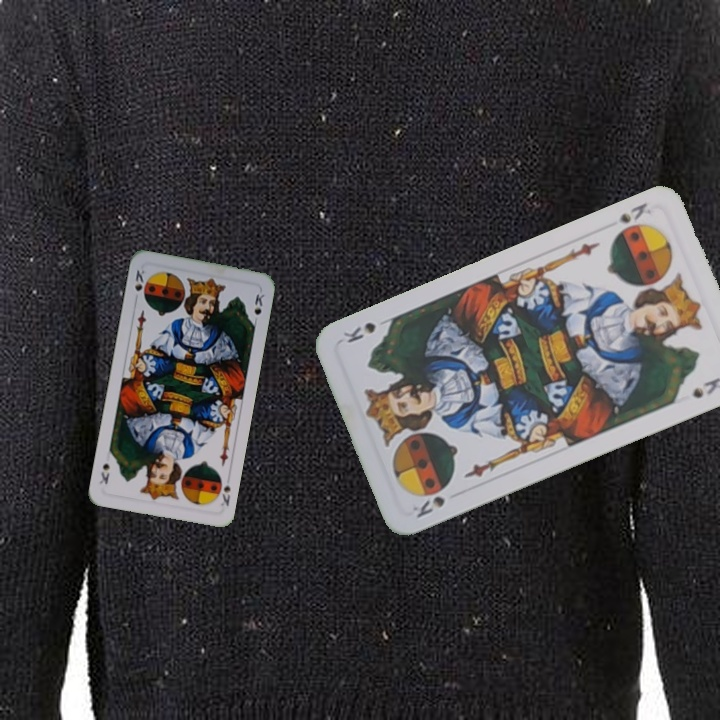SK: (408, 492, 448, 521), (615, 198, 654, 226), (130, 266, 147, 305), (216, 481, 233, 509)
